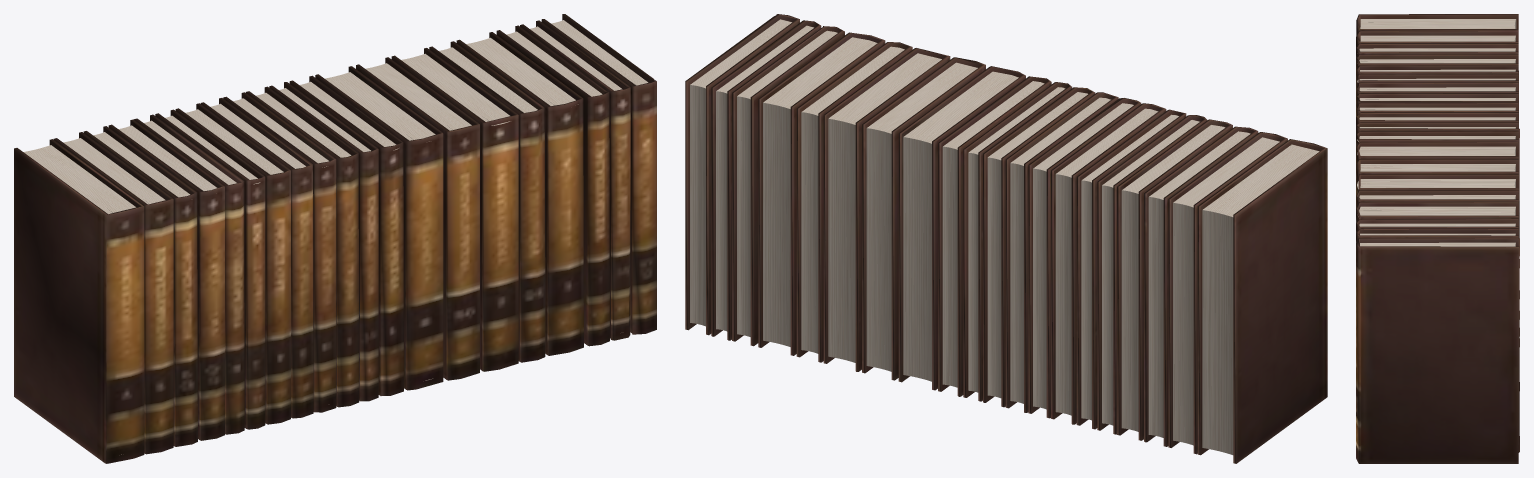
File: book_encyclopedia_set_01.glb
3 renders of one model, left to right at view 1: azimuth 30°, elevation 25°; view 2: azimuth 150°, elevation 25°; view 3: azimuth 270°, elevation 25°, orthographic. The views are drawn at different scales.
Parts seen in each view (by area): view 1: book_encyclopedia_set_01_book01; view 2: book_encyclopedia_set_01_book01; view 3: book_encyclopedia_set_01_book01.
Part boxes in pixels (<box>): book_encyclopedia_set_01_book01: <box>14,14,656,463</box>; book_encyclopedia_set_01_book01: <box>685,14,1327,463</box>; book_encyclopedia_set_01_book01: <box>1356,14,1519,463</box>.
Size of the model in its own units: 0.5513 by 0.2374 by 0.1631.
Materials: 2 (2 with a texture image).
